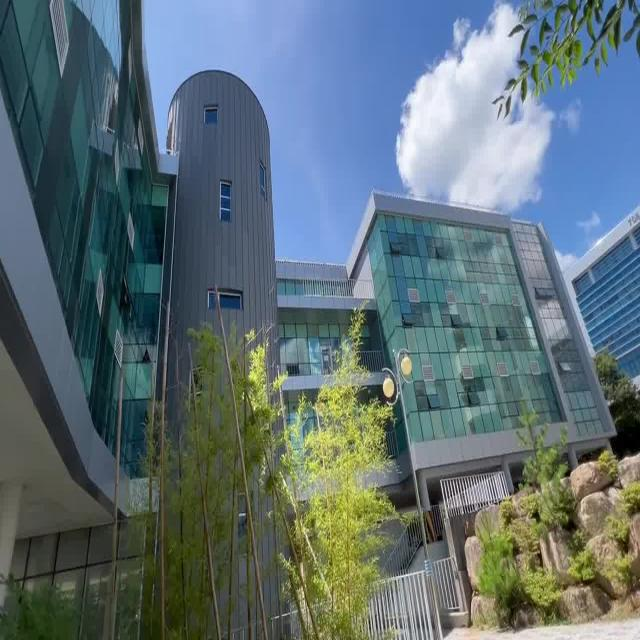building: (0, 2, 592, 484)
